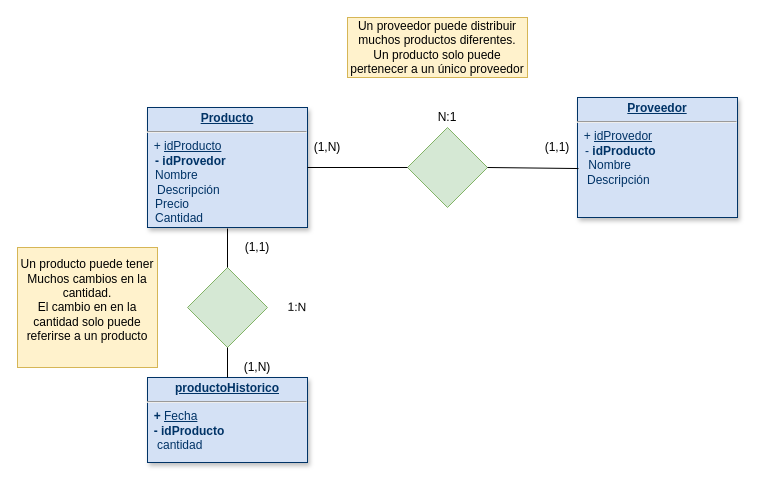
Image size: 761x487. Some labels were removed from this diagram. Here are the shapes that lost their labels. From the top down, the centre of each, then its label:
At (447,167): "Distribuir".
At (227,307): "Cambios en Stock".
